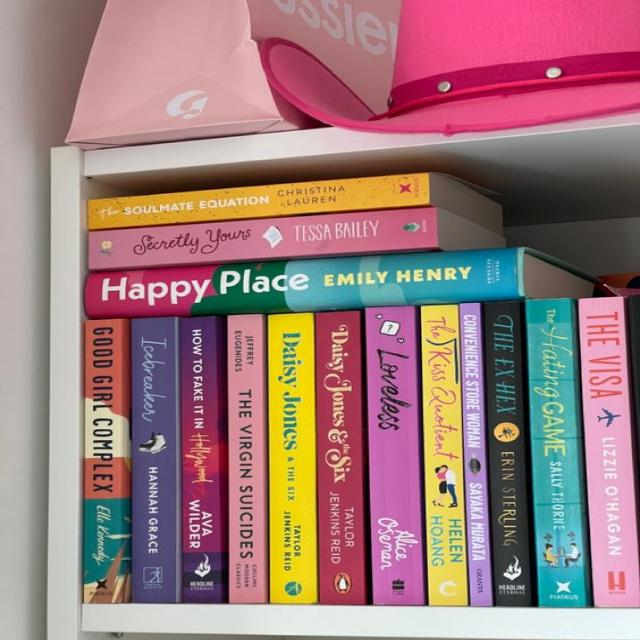book: (83, 249, 526, 320), (88, 208, 439, 269), (526, 297, 590, 609), (578, 296, 640, 608), (89, 174, 430, 229), (366, 306, 426, 605), (482, 300, 533, 609), (267, 312, 319, 604), (316, 311, 366, 605), (421, 304, 468, 607), (130, 317, 178, 603), (84, 317, 129, 603), (179, 317, 221, 603), (227, 316, 266, 604), (460, 302, 495, 607)
